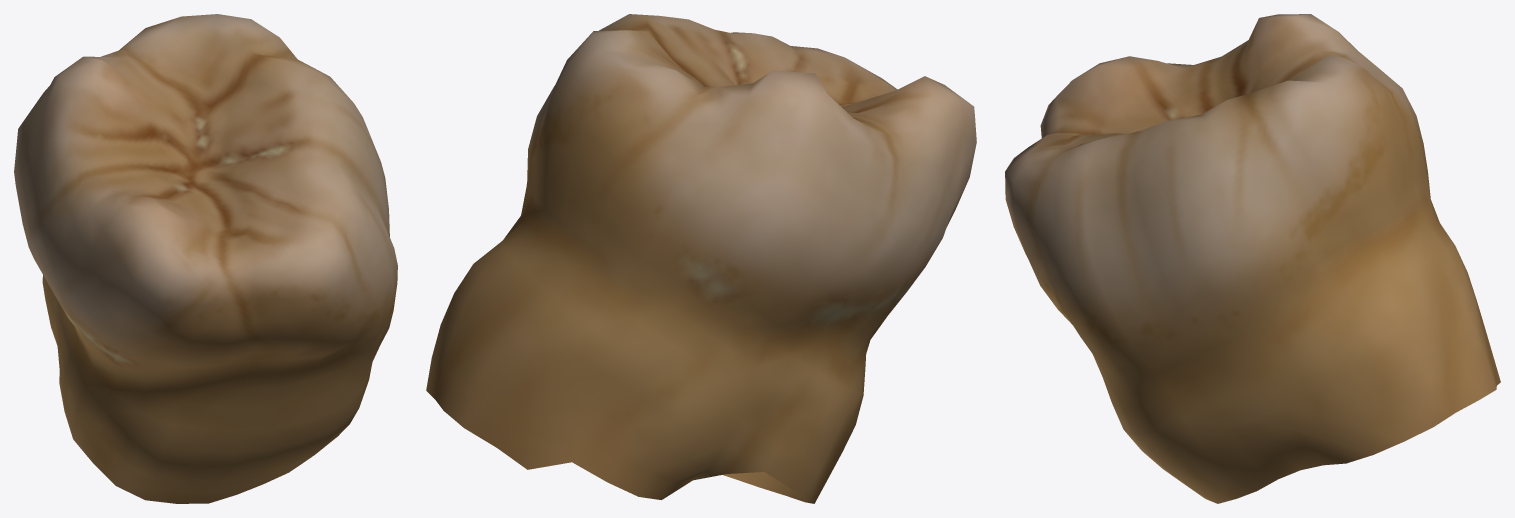
The model's file is tooth-41.glb.
3 views of the same model, side by side, from view 1: azimuth 30°, elevation 25°; view 2: azimuth 150°, elevation 25°; view 3: azimuth 270°, elevation 25° (orthographic). The views are drawn at different scales.
Visible parts, largest first — view 1: teeth_1; view 2: teeth_1; view 3: teeth_1.
Boxes of the visible parts, x1,y1,x2,y2 form: teeth_1: [14, 14, 397, 503]; teeth_1: [426, 14, 976, 503]; teeth_1: [1005, 14, 1500, 503].
Size of the model in its own units: 0.03 by 0.0355 by 0.0377.
Materials: 1 (1 with a texture image).
